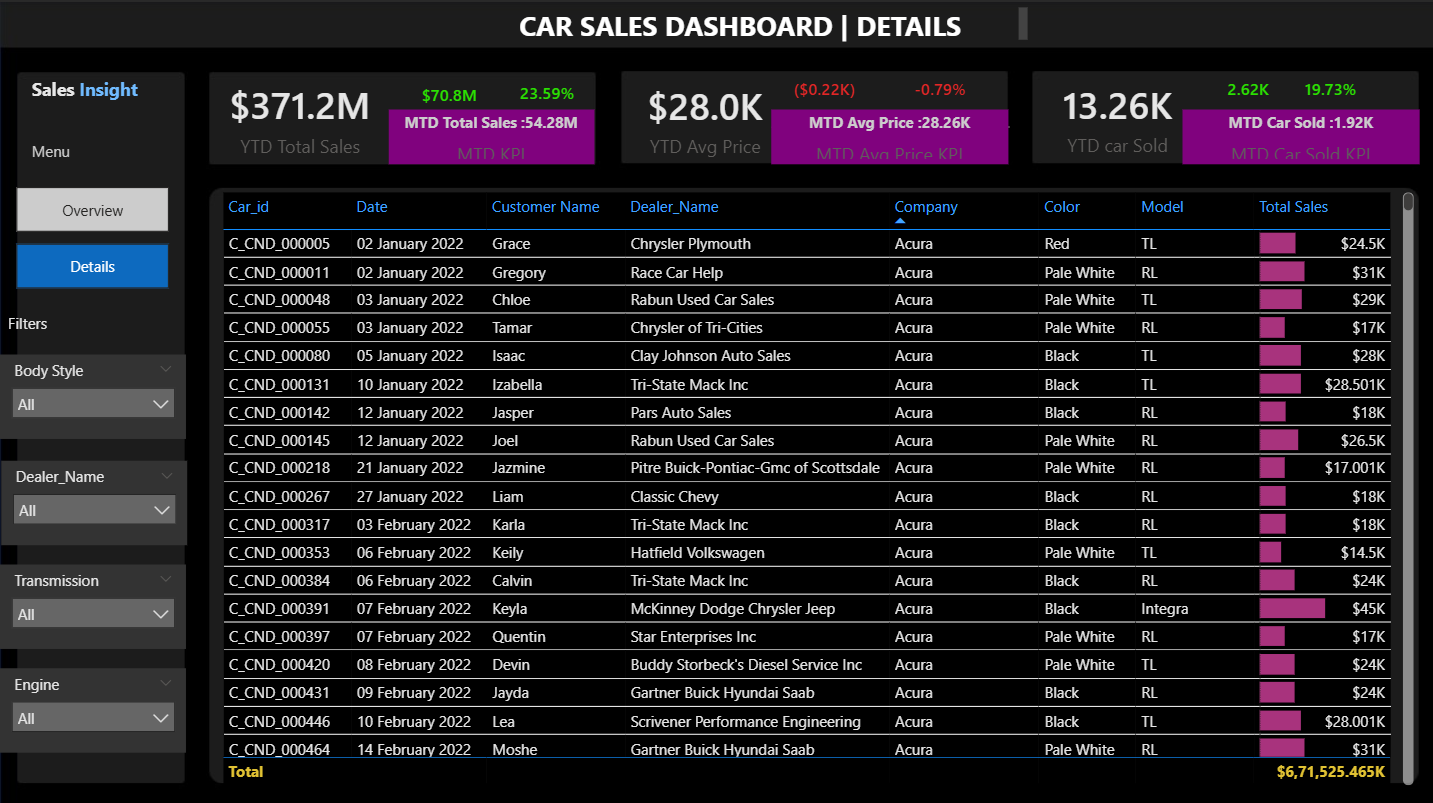

The dashboard page shown, as its layout file describes it:
{"tool":"powerbi","page":{"name":"Details","canvas":[1280,720],"ordinal":1},"visuals":[{"type":"card","fields":{"Values":["car_data.YTD Total Sales"]},"box":[180.4,61.4,174.2,83.4],"z":0},{"type":"card","fields":{"Values":["car_data.sales diffrence"]},"box":[301.8,62.6,197.5,66.3],"z":1000},{"type":"card","fields":{"Values":["car_data.YOY Sales Growth"]},"box":[457.7,61.4,60.1,66.3],"z":2000},{"type":"card","fields":{"Values":["car_data.MTD KPI"]},"box":[346,95.7,182.8,49.1],"z":3000},{"type":"card","fields":{"Values":["car_data.YTD Avg Price"]},"box":[541.1,62.6,174.2,82.2],"z":4000},{"type":"card","fields":{"Values":["car_data.Avg Price Diff"]},"box":[640.5,61.4,189,57.7],"z":5000},{"type":"card","fields":{"Values":["car_data.YOY Avg Price Growth"]},"box":[766.9,61.4,141.1,57.7],"z":6000},{"type":"card","fields":{"Values":["car_data.MTD Avg Price KPI"]},"box":[687.1,95.7,211,49.1],"z":7000},{"type":"card","fields":{"Values":["car_data.YTD car Sold","select"]},"box":[908,61.4,174.2,82.2],"z":8000},{"type":"card","fields":{"Values":["car_data.Car Sold Diff"]},"box":[1017.2,61.4,189,57.7],"z":9000},{"type":"card","fields":{"Values":["car_data.YOY Car Sold Growth"]},"box":[1090.8,61.4,189,57.7],"z":10000},{"type":"card","fields":{"Values":["car_data.MTD Car Sold KPI"]},"box":[1052.8,95.7,211,49.1],"z":11000},{"type":"textbox","box":[457.7,0,462.6,40.5],"z":12000},{"type":"slicer","fields":{"Values":["car_data.Body Style"]},"box":[0,314.1,165.6,74.8],"z":13000},{"type":"slicer","fields":{"Values":["car_data.Dealer_Name"]},"box":[1.2,408.6,165.6,74.8],"z":14000},{"type":"slicer","fields":{"Values":["car_data.Transmission"]},"box":[0,500.6,165.6,74.8],"z":15000},{"type":"slicer","fields":{"Values":["car_data.Engine"]},"box":[0,593.9,165.6,74.8],"z":16000},{"type":"textbox","box":[2.5,271.2,165.6,34.4],"z":17000},{"type":"tableEx","fields":{"Values":["car_data.Car_id","car_data.Date","car_data.Customer Name","car_data.Dealer_Name","car_data.Company","car_data.Color","car_data.Model","car_data.Price ($)"]},"box":[192.6,164.4,1071.2,537.4],"z":18000},{"type":"textbox","box":[23.3,61.4,142.3,58.9],"z":19000},{"type":"textbox","box":[23.3,119,90.8,34.4],"z":20000},{"type":"pageNavigator","box":[14.7,164.4,136.2,90.8],"z":21000}]}

Visuals, with their boxes on the page's 1280x720 design canvas (x1, y1, x2, y2). These are canvas units, not pixel positions in the 1433x803 screenshot, which may show the page scaled, cropped or inside an application window:
card - car_data.YTD Total Sales: 180:61:355:145
card - car_data.sales diffrence: 302:63:499:129
card - car_data.YOY Sales Growth: 458:61:518:128
card - car_data.MTD KPI: 346:96:529:145
card - car_data.YTD Avg Price: 541:63:715:145
card - car_data.Avg Price Diff: 640:61:830:119
card - car_data.YOY Avg Price Growth: 767:61:908:119
card - car_data.MTD Avg Price KPI: 687:96:898:145
card - car_data.YTD car Sold x select: 908:61:1082:144
card - car_data.Car Sold Diff: 1017:61:1206:119
card - car_data.YOY Car Sold Growth: 1091:61:1280:119
card - car_data.MTD Car Sold KPI: 1053:96:1264:145
textbox: 458:0:920:40
slicer - car_data.Body Style: 0:314:166:389
slicer - car_data.Dealer_Name: 1:409:167:483
slicer - car_data.Transmission: 0:501:166:575
slicer - car_data.Engine: 0:594:166:669
textbox: 2:271:168:306
tableEx - car_data.Car_id x car_data.Date: 193:164:1264:702
textbox: 23:61:166:120
textbox: 23:119:114:153
pageNavigator: 15:164:151:255
